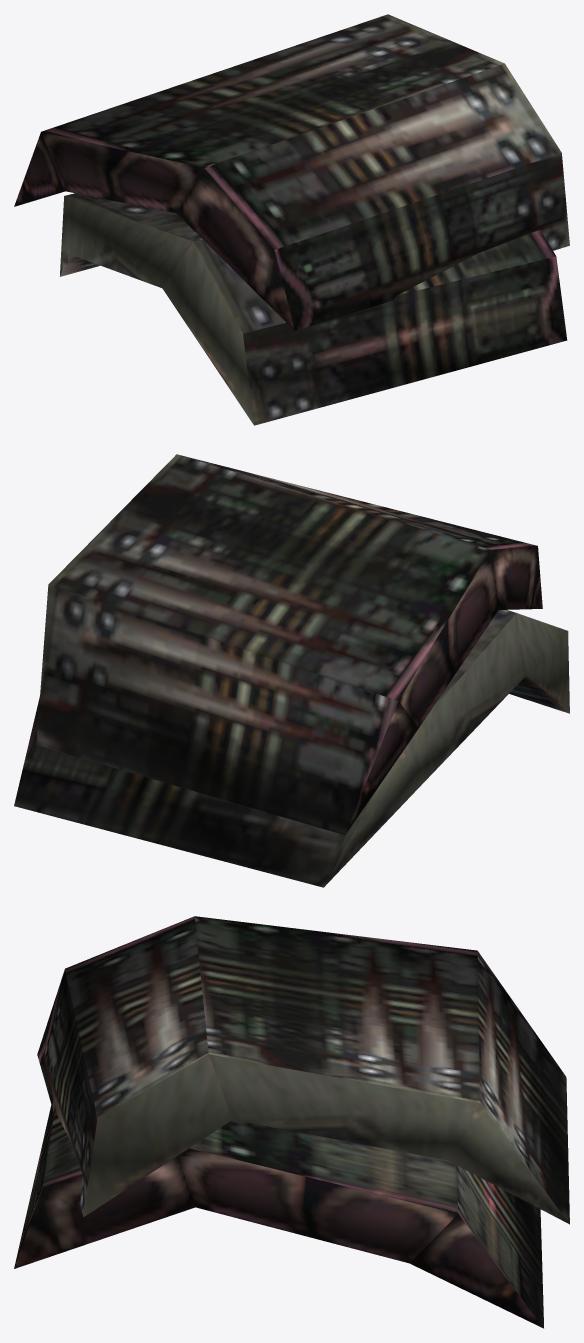
The model's file is ShoulderPads5__MOB.glb.
3 renders of one model, top to bottom at view 1: azimuth 30°, elevation 25°; view 2: azimuth 150°, elevation 25°; view 3: azimuth 270°, elevation 25°, orthographic. The views are drawn at different scales.
Parts seen in each view (by area): view 1: ShoulderPads5; view 2: ShoulderPads5; view 3: ShoulderPads5.
Boxes of the visible parts, x1,y1,x2,y2 form: ShoulderPads5: [14, 14, 569, 425]; ShoulderPads5: [14, 454, 569, 887]; ShoulderPads5: [14, 916, 569, 1328].
Size of the model in its own units: 8.51 by 5.51 by 10.
Materials: 1 (1 with a texture image).
